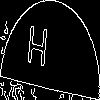H: (25, 24, 49, 76)
